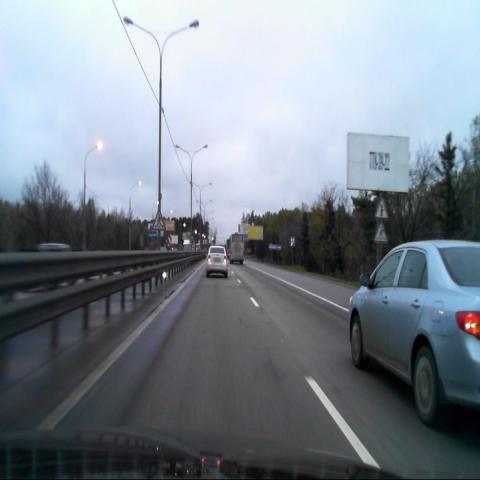1_22: (373, 222, 389, 243)
